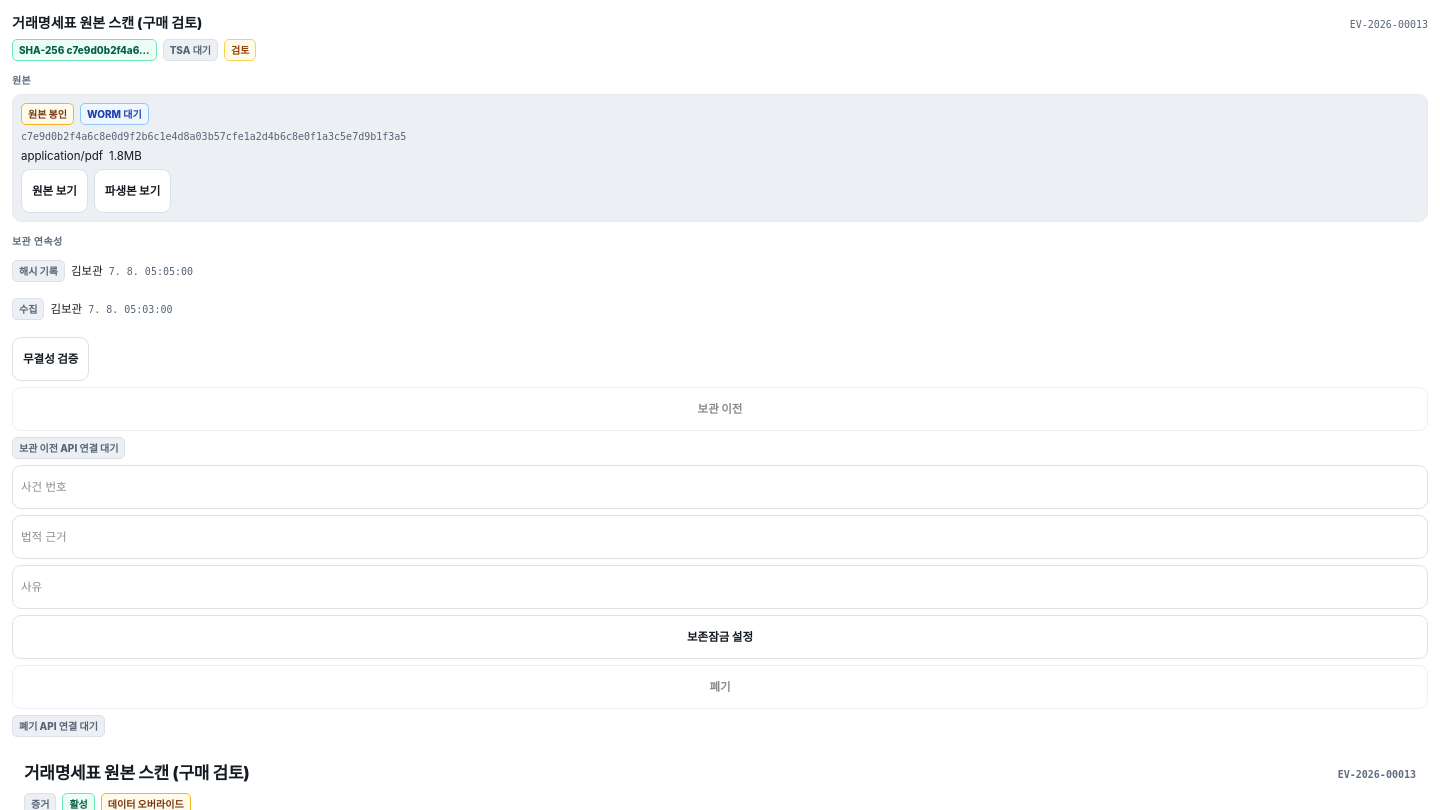
Test: EvidenceCard verify affordance › clears a prior MATCH verdict chip when a later verify comes back unavailable
Step 1. Click the button "무결성 검증" → (51,359), box [12,337,89,381]
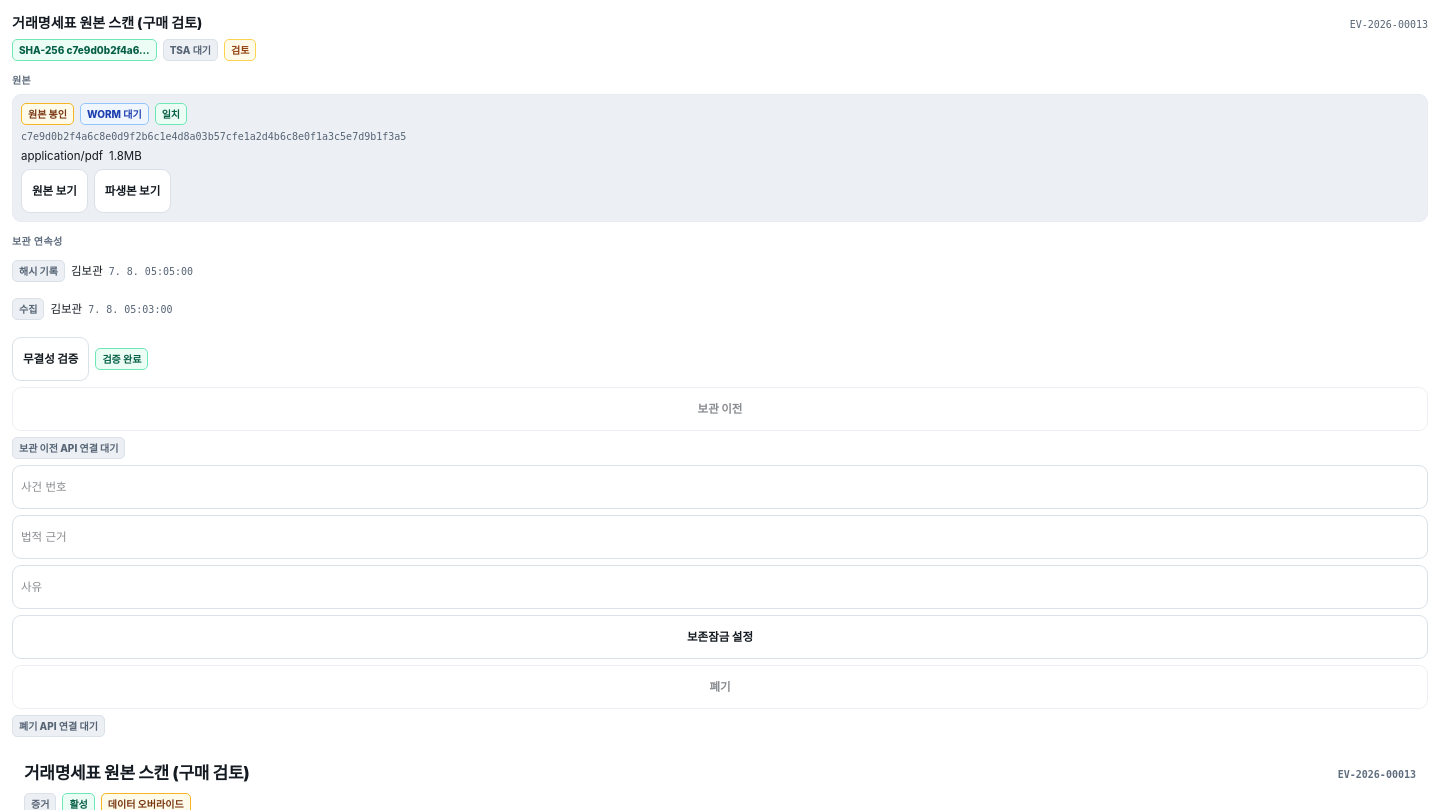
Result: the text "일치" is shown at [155,103,187,125]
Step 2. Click the button "무결성 검증" → (51,359), box [12,337,89,381]
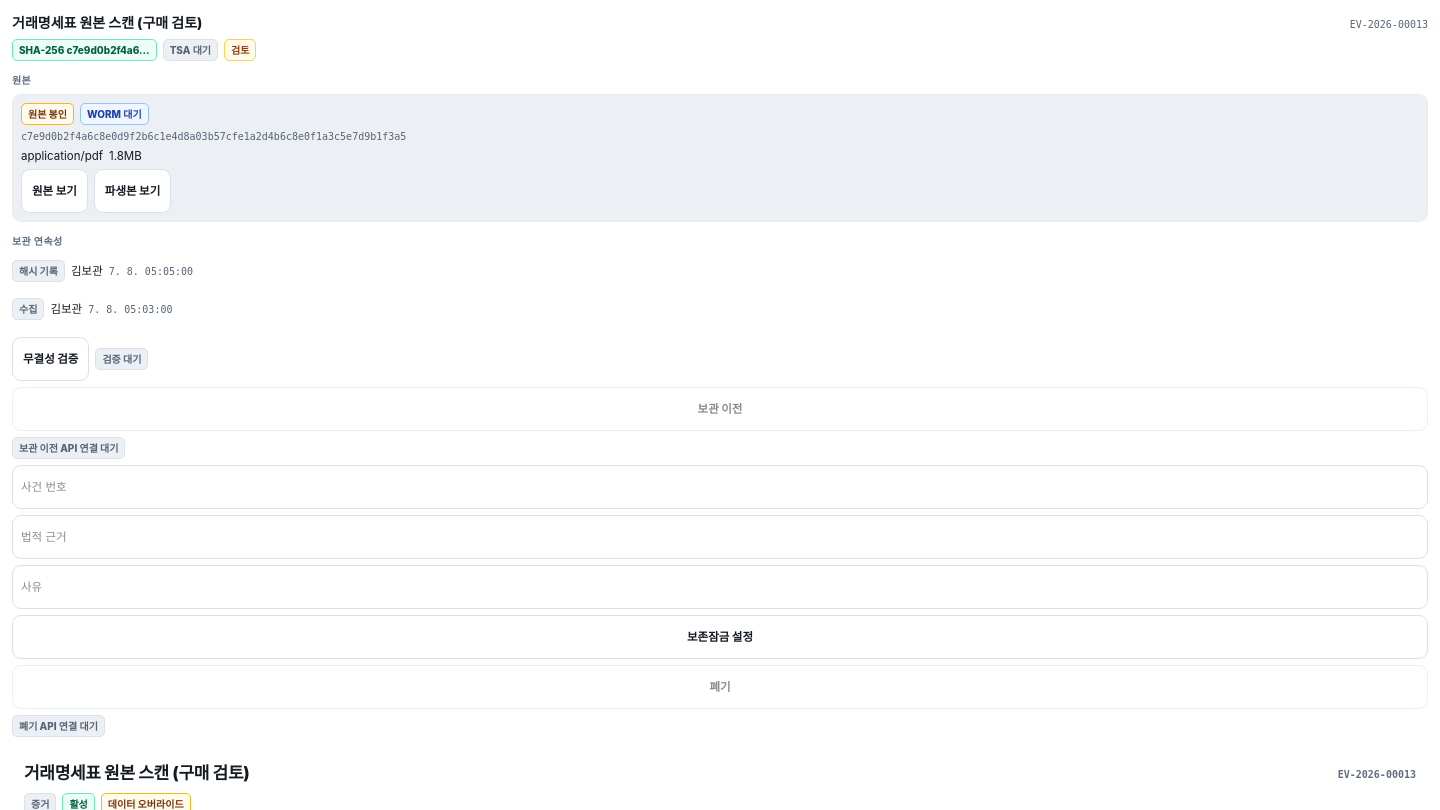
Result: the text "검증 대기" is shown at [95,348,148,370]
Result: the text "일치" is gone
